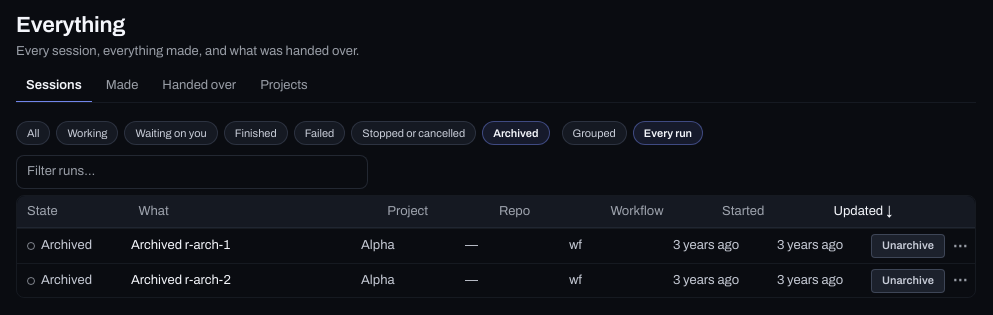
Scenario: S17b Every-run table › R17/R18 Archived lens in the runs view lists rows and unarchives
Expected: the number of elements with test id "runs-row" is 2, [17,228,975,263]; [17,263,975,297]
Click the button with test id "everything-unarchive" in the row of "Archived r-arch-1": (908, 246) [871,234,945,258]
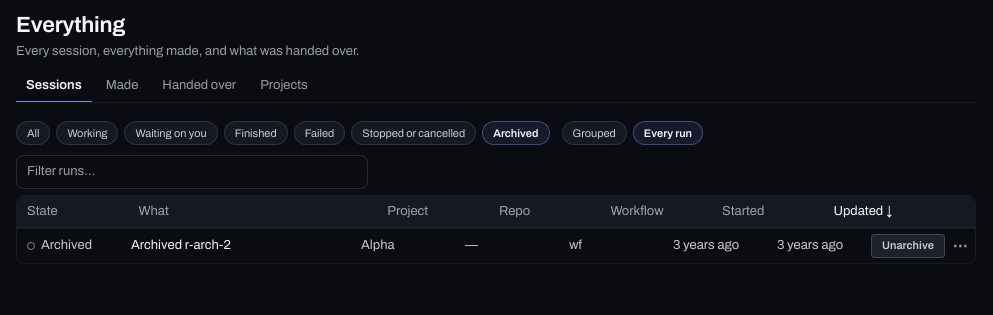
Now the number of elements with test id "runs-row" is 1, box [17,228,975,263]
